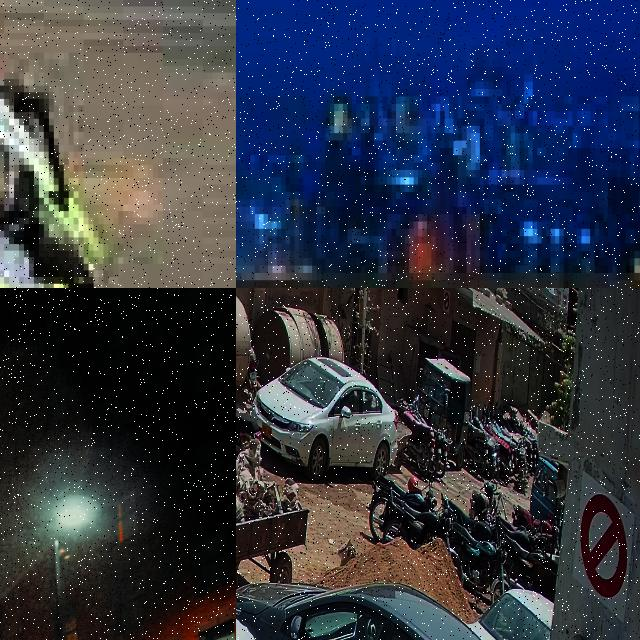bike: (367, 470, 433, 544), (378, 486, 452, 550), (451, 516, 508, 594), (398, 398, 435, 476), (446, 494, 501, 544), (512, 504, 559, 556), (504, 534, 546, 589), (236, 373, 262, 459), (503, 513, 536, 553), (466, 422, 489, 474), (469, 480, 498, 521)
car: (252, 358, 398, 484), (475, 588, 551, 640)
